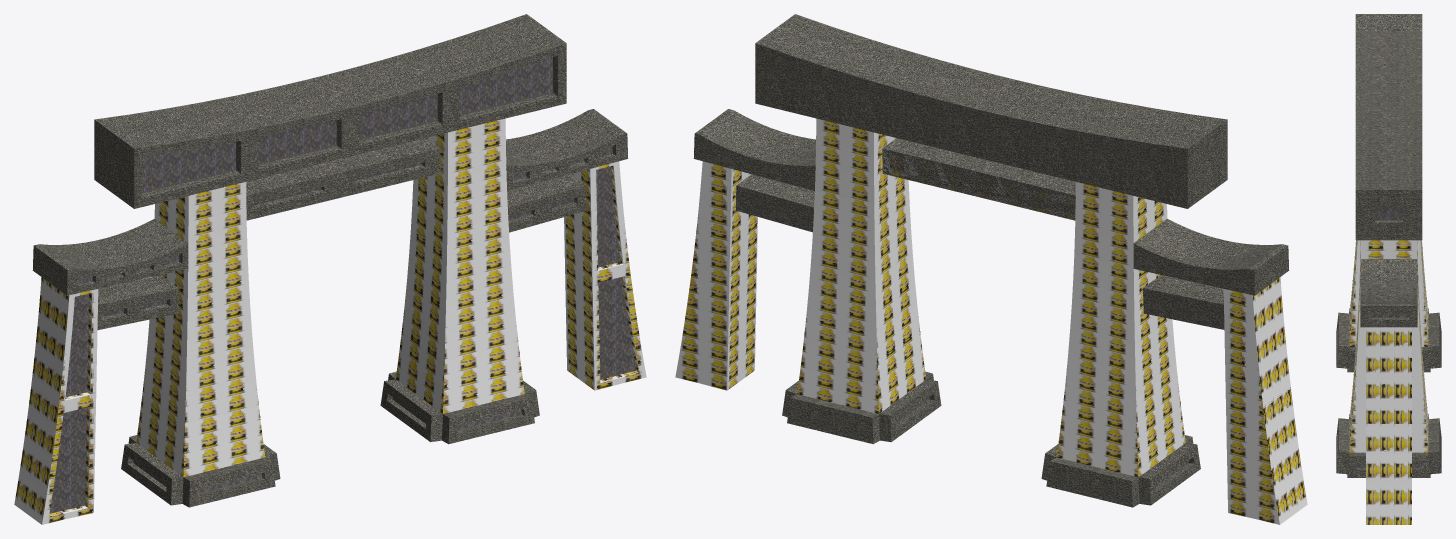
3 views of the same model, side by side, from view 1: azimuth 30°, elevation 25°; view 2: azimuth 150°, elevation 25°; view 3: azimuth 270°, elevation 25° (orthographic). The views are drawn at different scales.
Parts seen in each view (by area): view 1: SketchUp (×21); view 2: SketchUp (×13); view 3: SketchUp (×9).
Boxes of the visible parts, x1=… form: SketchUp (×21): x1=14, y1=14, x2=646, y2=524; SketchUp (×13): x1=675, y1=14, x2=1307, y2=524; SketchUp (×9): x1=1336, y1=14, x2=1441, y2=524.
Size of the model in its own units: 413 by 74.73 by 236.
